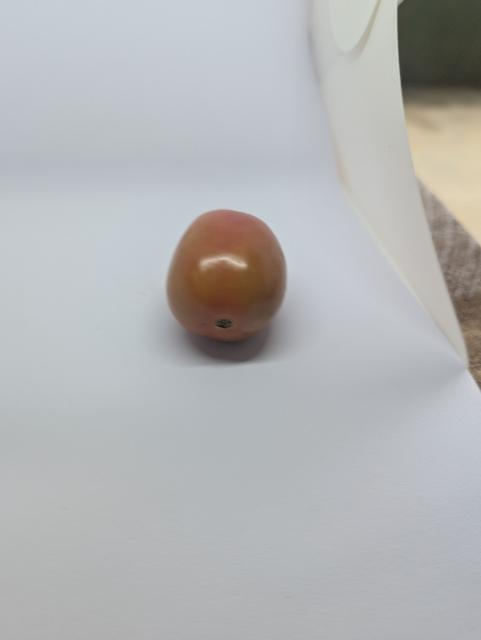turning: (158, 203, 294, 355)
